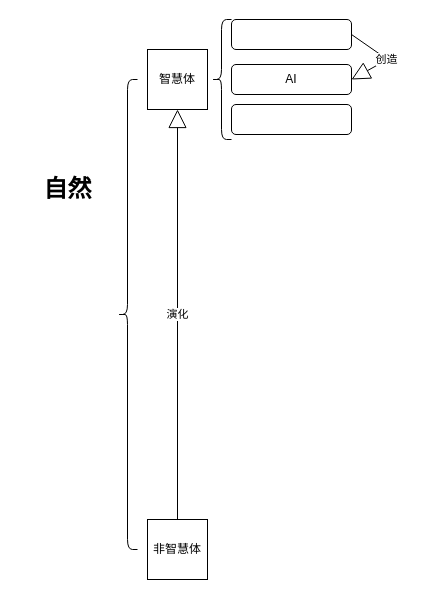
The diagram is 423 pixels wide and 597 high, and some of its shapes have lost their labels. The shapes that lost their labels are listed below. From the top down, each one's centre as x and y in pixels, then its label:
[291,34]: 人类
[291,119]: 其他
